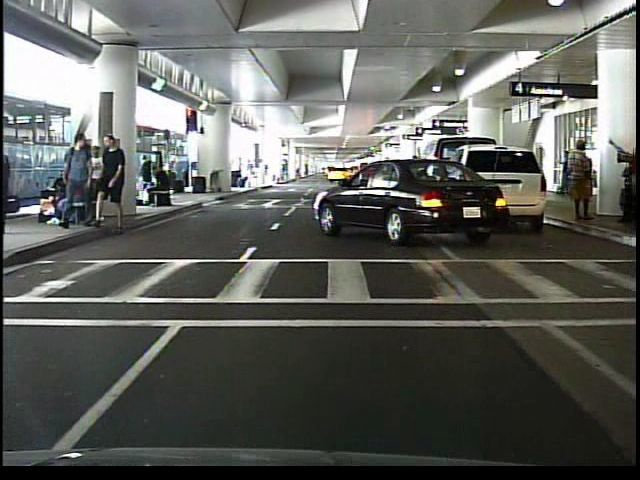person: (563, 140, 595, 230), (142, 163, 173, 211)
